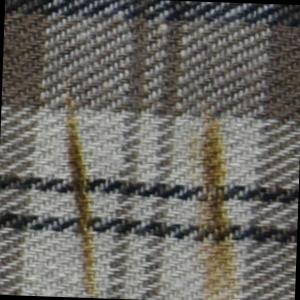Oil Stain: (192, 109, 250, 300), (57, 94, 109, 299)
